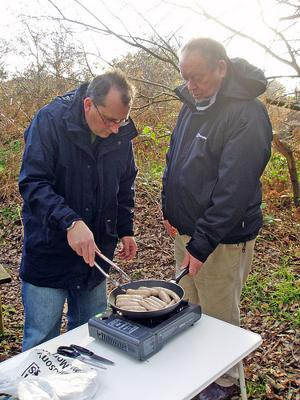person: (19, 72, 140, 354)
